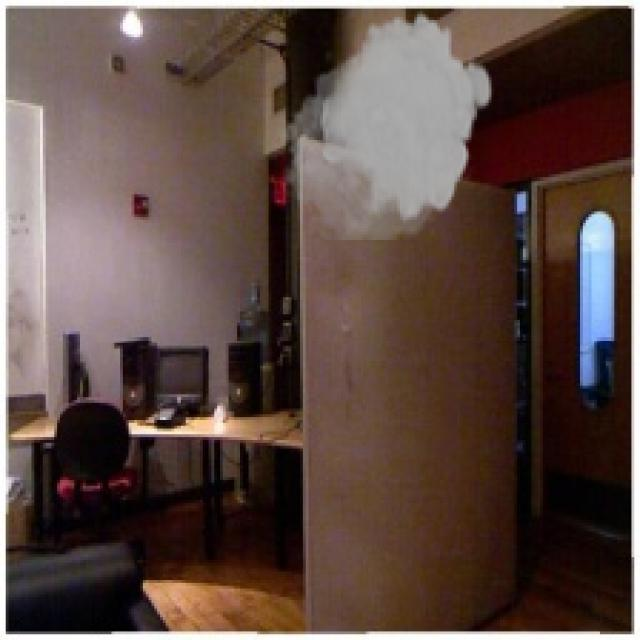Smoke: (274, 8, 494, 240)
